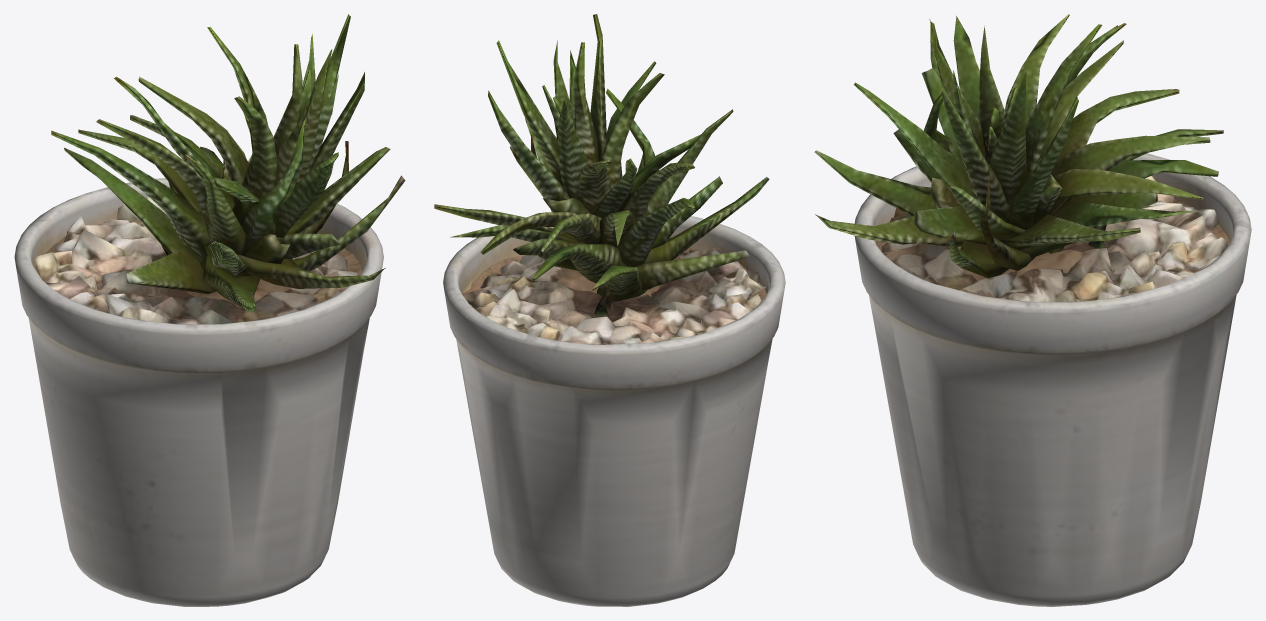
Rendered from potted_plant_04.glb.
3 renders of one model, left to right at view 1: azimuth 30°, elevation 25°; view 2: azimuth 150°, elevation 25°; view 3: azimuth 270°, elevation 25°, orthographic. The views are drawn at different scales.
Parts seen in each view (by area): view 1: potted_plant_04_pot, potted_plant_04_plant, potted_plant_04_ground, potted_plant_04_dirt; view 2: potted_plant_04_pot, potted_plant_04_plant, potted_plant_04_ground, potted_plant_04_dirt; view 3: potted_plant_04_pot, potted_plant_04_plant, potted_plant_04_ground, potted_plant_04_dirt.
Boxes of the visible parts, x1=… form: potted_plant_04_pot: x1=14, y1=178, x2=383, y2=606; potted_plant_04_plant: x1=51, y1=14, x2=405, y2=311; potted_plant_04_ground: x1=34, y1=196, x2=357, y2=324; potted_plant_04_dirt: x1=35, y1=223, x2=362, y2=308; potted_plant_04_pot: x1=443, y1=216, x2=785, y2=606; potted_plant_04_plant: x1=434, y1=14, x2=769, y2=315; potted_plant_04_ground: x1=462, y1=247, x2=766, y2=344; potted_plant_04_dirt: x1=462, y1=247, x2=766, y2=305; potted_plant_04_pot: x1=854, y1=144, x2=1251, y2=606; potted_plant_04_plant: x1=814, y1=14, x2=1223, y2=278; potted_plant_04_ground: x1=881, y1=175, x2=1228, y2=302; potted_plant_04_dirt: x1=875, y1=199, x2=1229, y2=297.
Size of the model in its own units: 0.1679 by 0.2672 by 0.1845.
1 material, 1 textured.
